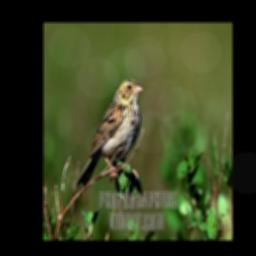Sparrow: (75, 77, 143, 195)
